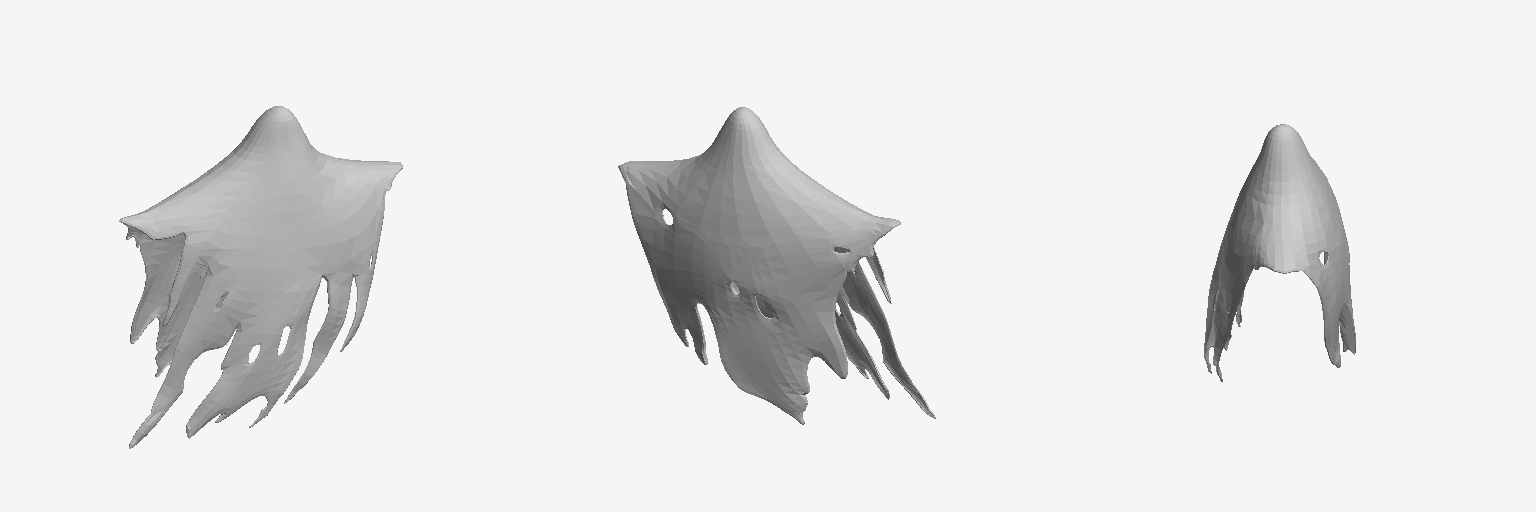
The model's file is Fantasma.obj.
The picture shows the model from 3 angles: view 1: azimuth 30°, elevation 25°; view 2: azimuth 150°, elevation 25°; view 3: azimuth 270°, elevation 25°; orthographic projection.
Parts seen in each view (by area): view 1: Ghost.1; view 2: Ghost.1; view 3: Ghost.1.
Part boxes in pixels (left/top/right/bottom): Ghost.1: left=119, top=106, right=402, bottom=448; Ghost.1: left=618, top=107, right=935, bottom=424; Ghost.1: left=1204, top=124, right=1355, bottom=381.
Bounding box in the file's own units: 0.1157 × 0.1065 × 0.0518.